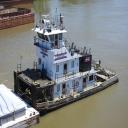tugboat: (12, 13, 121, 120)
